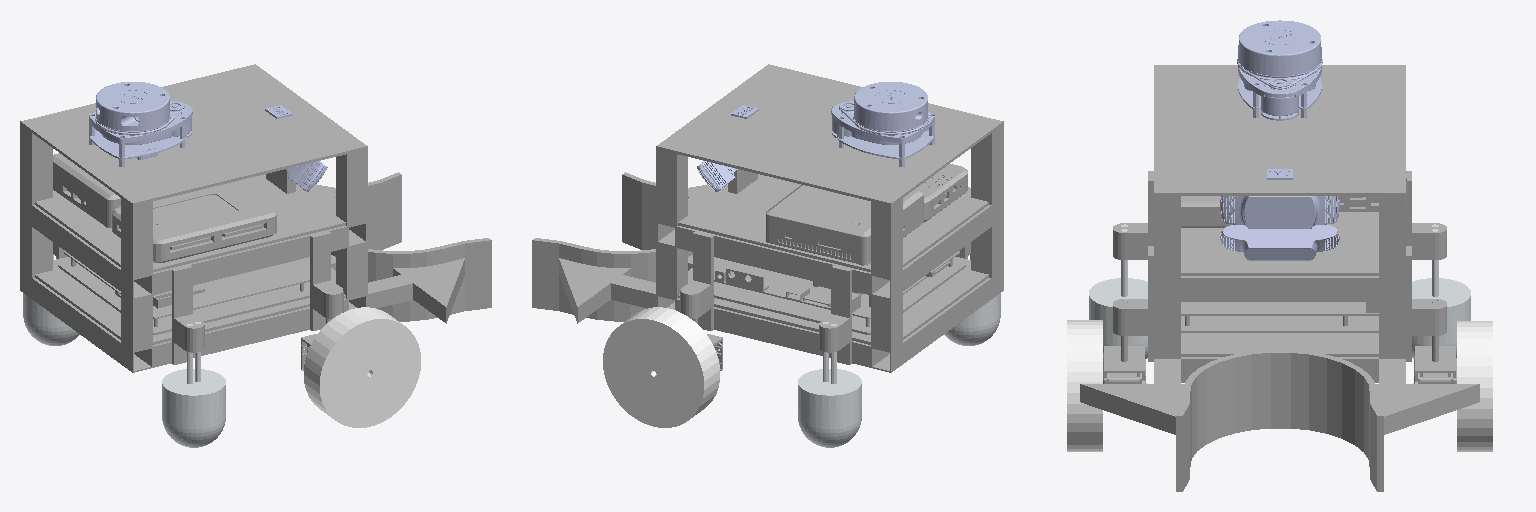
The robot description file, URDF, robot "lide":
<?xml version="1.0" encoding="utf-8"?>
<!-- This URDF was automatically created by SolidWorks to URDF Exporter! Originally created by [author] ([email redacted]) 
     Commit Version: 1.5.1-0-g916b5db  Build Version: 1.5.7152.31018
     For more information, please see http://wiki.ros.org/sw_urdf_exporter -->
<robot
  name="lide">
  <link
    name="base_link">
    <inertial>
      <origin
        xyz="-0.071104259661816 0.00200303179776166 -0.0992852147953354"
        rpy="0 0 0" />
      <mass
        value="2.75314359310364" />
      <inertia
        ixx="0.0065612497747436"
        ixy="-4.33905688720932E-07"
        ixz="7.93136902489972E-06"
        iyy="0.00572527308396673"
        iyz="-4.29101613522818E-07"
        izz="0.0116295244162171" />
    </inertial>
    <visual>
      <origin
        xyz="0 0 0"
        rpy="0 0 0" />
      <geometry>
        <mesh
          filename="package://lide/meshes/base_link.STL" />
      </geometry>
      <material
        name="">
        <color
          rgba="0.752941176470588 0.752941176470588 0.752941176470588 1" />
      </material>
    </visual>
    <collision>
      <origin
        xyz="0 0 0"
        rpy="0 0 0" />
      <geometry>
        <mesh
          filename="package://lide/meshes/base_link.STL" />
      </geometry>
    </collision>
  </link>
  <link
    name="LFS">
    <inertial>
      <origin
        xyz="0.0455532547277625 0.00238273174768056 0.00316237571883915"
        rpy="0 0 0" />
      <mass
        value="0.0606810735326679" />
      <inertia
        ixx="1.7187359000971E-05"
        ixy="-1.6484530205636E-08"
        ixz="-1.56454773175218E-07"
        iyy="1.57906996487927E-05"
        iyz="2.96411876510759E-09"
        izz="1.34932513987566E-05" />
    </inertial>
    <visual>
      <origin
        xyz="0 0 0"
        rpy="0 0 0" />
      <geometry>
        <mesh
          filename="package://lide/meshes/LFS.STL" />
      </geometry>
      <material
        name="">
        <color
          rgba="0.752941176470588 0.752941176470588 0.752941176470588 1" />
      </material>
    </visual>
    <collision>
      <origin
        xyz="0 0 0"
        rpy="0 0 0" />
      <geometry>
        <mesh
          filename="package://lide/meshes/LFS.STL" />
      </geometry>
    </collision>
  </link>
  <joint
    name="LFS"
    type="fixed">
    <origin
      xyz="-0.00886806590619908 0.0844036400368472 -0.186502747985397"
      rpy="1.5707963267949 0 1.5707963267949" />
    <parent
      link="base_link" />
    <child
      link="LFS" />
    <axis
      xyz="0 0 0" />
  </joint>
  <link
    name="LFW">
    <inertial>
      <origin
        xyz="0.0150000000000001 0 0"
        rpy="0 0 0" />
      <mass
        value="0.289786121963991" />
      <inertia
        ixx="0.000439831942427159"
        ixy="-3.54651028574374E-20"
        ixz="-3.54956186376153E-20"
        iyy="0.000241649930360879"
        iyz="1.35525271560688E-20"
        izz="0.000241649930360879" />
    </inertial>
    <visual>
      <origin
        xyz="0 0 0"
        rpy="0 0 0" />
      <geometry>
        <mesh
          filename="package://lide/meshes/LFW.STL" />
      </geometry>
      <material
        name="">
        <color
          rgba="1 1 1 1" />
      </material>
    </visual>
    <collision>
      <origin
        xyz="0 0 0"
        rpy="0 0 0" />
      <geometry>
        <mesh
          filename="package://lide/meshes/LFW.STL" />
      </geometry>
    </collision>
  </link>
  <joint
    name="LFW"
    type="continuous">
    <origin
      xyz="0.0633463599631538 -0.00679803845222954 0.0150436140506676"
      rpy="-1.07689569850004 0 0" />
    <parent
      link="LFS" />
    <child
      link="LFW" />
    <axis
      xyz="1 0 0" />
  </joint>
  <link
    name="RFS">
    <inertial>
      <origin
        xyz="-0.0191756587025614 -0.0149423417490195 0.0521917790884628"
        rpy="0 0 0" />
      <mass
        value="0.0606810735326679" />
      <inertia
        ixx="1.7187359000971E-05"
        ixy="-1.64845302056334E-08"
        ixz="1.56454773175213E-07"
        iyy="1.57906996487927E-05"
        iyz="-2.96411876510698E-09"
        izz="1.34932513987566E-05" />
    </inertial>
    <visual>
      <origin
        xyz="0 0 0"
        rpy="0 0 0" />
      <geometry>
        <mesh
          filename="package://lide/meshes/RFS.STL" />
      </geometry>
      <material
        name="">
        <color
          rgba="0.752941176470588 0.752941176470588 0.752941176470588 1" />
      </material>
    </visual>
    <collision>
      <origin
        xyz="0 0 0"
        rpy="0 0 0" />
      <geometry>
        <mesh
          filename="package://lide/meshes/RFS.STL" />
      </geometry>
    </collision>
  </link>
  <joint
    name="RFS"
    type="fixed">
    <origin
      xyz="-0.0578974692758227 -0.110781236062048 -0.169215608130948"
      rpy="1.5707963267949 0 1.5707963267949" />
    <parent
      link="base_link" />
    <child
      link="RFS" />
    <axis
      xyz="0 0 0" />
  </joint>
  <link
    name="RFW">
    <inertial>
      <origin
        xyz="-0.015 0 0"
        rpy="0 0 0" />
      <mass
        value="0.289786121963991" />
      <inertia
        ixx="0.000439831942427158"
        ixy="-2.99751059459683E-36"
        ixz="3.28943163505767E-37"
        iyy="0.000241649930360878"
        iyz="1.61397654169218E-36"
        izz="0.000241649930360879" />
    </inertial>
    <visual>
      <origin
        xyz="0 0 0"
        rpy="0 0 0" />
      <geometry>
        <mesh
          filename="package://lide/meshes/RFW.STL" />
      </geometry>
      <material
        name="">
        <color
          rgba="1 1 1 1" />
      </material>
    </visual>
    <collision>
      <origin
        xyz="0 0 0"
        rpy="0 0 0" />
      <geometry>
        <mesh
          filename="package://lide/meshes/RFW.STL" />
      </geometry>
    </collision>
  </link>
  <joint
    name="RFW"
    type="continuous">
    <origin
      xyz="-0.0369687639379513 -0.0240836054314246 0.0640730174202912"
      rpy="0 0 0" />
    <parent
      link="RFS" />
    <child
      link="RFW" />
    <axis
      xyz="1 0 0" />
  </joint>
  <link
    name="LBS">
    <inertial>
      <origin
        xyz="2.77555756156289E-17 -0.0468906658695576 0"
        rpy="0 0 0" />
      <mass
        value="0.427507928300499" />
      <inertia
        ixx="0.000234774718964074"
        ixy="1.00144306038344E-22"
        ixz="-7.3183646642772E-22"
        iyy="0.000174741575471784"
        iyz="1.9637456342593E-22"
        izz="0.000234589211059472" />
    </inertial>
    <visual>
      <origin
        xyz="0 0 0"
        rpy="0 0 0" />
      <geometry>
        <mesh
          filename="package://lide/meshes/LBS.STL" />
      </geometry>
      <material
        name="">
        <color
          rgba="0.898039215686275 0.917647058823529 0.929411764705882 1" />
      </material>
    </visual>
    <collision>
      <origin
        xyz="0 0 0"
        rpy="0 0 0" />
      <geometry>
        <mesh
          filename="package://lide/meshes/LBS.STL" />
      </geometry>
    </collision>
  </link>
  <joint
    name="LBS"
    type="fixed">
    <origin
      xyz="-0.156824451855532 0.129999999999999 -0.163225762701871"
      rpy="1.5707963267949 0 1.5707963267949" />
    <parent
      link="base_link" />
    <child
      link="LBS" />
    <axis
      xyz="0 0 0" />
  </joint>
  <link
    name="RBS">
    <inertial>
      <origin
        xyz="0 -0.0468906658695576 0"
        rpy="0 0 0" />
      <mass
        value="0.427507928300499" />
      <inertia
        ixx="0.000234774718964074"
        ixy="5.2257289289969E-24"
        ixz="-5.71747239396702E-24"
        iyy="0.000174741575471784"
        iyz="2.97295802271097E-22"
        izz="0.000234589211059472" />
    </inertial>
    <visual>
      <origin
        xyz="0 0 0"
        rpy="0 0 0" />
      <geometry>
        <mesh
          filename="package://lide/meshes/RBS.STL" />
      </geometry>
      <material
        name="">
        <color
          rgba="0.898039215686275 0.917647058823529 0.929411764705882 1" />
      </material>
    </visual>
    <collision>
      <origin
        xyz="0 0 0"
        rpy="0 0 0" />
      <geometry>
        <mesh
          filename="package://lide/meshes/RBS.STL" />
      </geometry>
    </collision>
  </link>
  <joint
    name="RBS"
    type="fixed">
    <origin
      xyz="-0.156824451855531 -0.13 -0.163225762701871"
      rpy="1.5707963267949 0 1.5707963267949" />
    <parent
      link="base_link" />
    <child
      link="RBS" />
    <axis
      xyz="0 0 0" />
  </joint>
  <link
    name="fcam">
    <inertial>
      <origin
        xyz="0.000445525090231217 -1.10631679103024E-05 0.00129821973144108"
        rpy="0 0 0" />
      <mass
        value="0.0436119950287128" />
      <inertia
        ixx="2.357070580464E-05"
        ixy="-1.01813691701995E-09"
        ixz="2.17579681215332E-08"
        iyy="4.29479133591152E-06"
        iyz="-8.85791114029262E-10"
        izz="2.21058141232448E-05" />
    </inertial>
    <visual>
      <origin
        xyz="0 0 0"
        rpy="0 0 0" />
      <geometry>
        <mesh
          filename="package://lide/meshes/fcam.STL" />
      </geometry>
      <material
        name="">
        <color
          rgba="0.792156862745098 0.819607843137255 0.933333333333333 1" />
      </material>
    </visual>
    <collision>
      <origin
        xyz="0 0 0"
        rpy="0 0 0" />
      <geometry>
        <mesh
          filename="package://lide/meshes/fcam.STL" />
      </geometry>
    </collision>
  </link>
  <joint
    name="fcam"
    type="fixed">
    <origin
      xyz="0.0331755481444686 0 -0.0150079249089001"
      rpy="0 0 0" />
    <parent
      link="base_link" />
    <child
      link="fcam" />
    <axis
      xyz="0 0 0" />
  </joint>
  <link
    name="bcam">
    <inertial>
      <origin
        xyz="0.00044553 -1.1063E-05 0.0012982"
        rpy="0 0 0" />
      <mass
        value="0.043612" />
      <inertia
        ixx="2.3571E-05"
        ixy="-1.0183E-09"
        ixz="2.1758E-08"
        iyy="4.2948E-06"
        iyz="-8.8548E-10"
        izz="2.2106E-05" />
    </inertial>
    <visual>
      <origin
        xyz="0 0 0"
        rpy="0 0 0" />
      <geometry>
        <mesh
          filename="package://lide/meshes/bcam.STL" />
      </geometry>
      <material
        name="">
        <color
          rgba="0.79216 0.81961 0.93333 1" />
      </material>
    </visual>
    <collision>
      <origin
        xyz="0 0 0"
        rpy="0 0 0" />
      <geometry>
        <mesh
          filename="package://lide/meshes/bcam.STL" />
      </geometry>
    </collision>
  </link>
  <joint
    name="bcasm"
    type="fixed">
    <origin
      xyz="0.0245945655901036 0 -0.0502880893355512"
      rpy="0 0.785398163397447 0" />
    <parent
      link="base_link" />
    <child
      link="bcam" />
    <axis
      xyz="0 0 0" />
  </joint>
  <link
    name="Lidar">
    <inertial>
      <origin
        xyz="0.013523 0.00046196 -0.028765"
        rpy="0 0 0" />
      <mass
        value="0.073085" />
      <inertia
        ixx="1.9581E-05"
        ixy="-1.0393E-07"
        ixz="-4.2839E-07"
        iyy="2.4125E-05"
        iyz="9.4271E-09"
        izz="4.1418E-05" />
    </inertial>
    <visual>
      <origin
        xyz="0 0 0"
        rpy="0 0 0" />
      <geometry>
        <mesh
          filename="package://lide/meshes/Lidar.STL" />
      </geometry>
      <material
        name="">
        <color
          rgba="0.79216 0.81961 0.93333 1" />
      </material>
    </visual>
    <collision>
      <origin
        xyz="0 0 0"
        rpy="0 0 0" />
      <geometry>
        <mesh
          filename="package://lide/meshes/Lidar.STL" />
      </geometry>
    </collision>
  </link>
  <joint
    name="Lidar"
    type="fixed">
    <origin
      xyz="-0.149400819455678 -0.000994047553704497 0.0564999999999964"
      rpy="0 0 0" />
    <parent
      link="base_link" />
    <child
      link="Lidar" />
    <axis
      xyz="0 0 0" />
  </joint>
  <link
    name="imu_link">
    <inertial>
      <origin
        xyz="0.0038502 6.2398E-05 -0.0010338"
        rpy="0 0 0" />
      <mass
        value="0.00070067" />
      <inertia
        ixx="2.8868E-08"
        ixy="5.1561E-11"
        ixz="5.7227E-12"
        iyy="1.798E-08"
        iyz="-2.3337E-11"
        izz="4.6383E-08" />
    </inertial>
    <visual>
      <origin
        xyz="0 0 0"
        rpy="0 0 0" />
      <geometry>
        <mesh
          filename="package://lide/meshes/imu_link.STL" />
      </geometry>
      <material
        name="">
        <color
          rgba="0.79216 0.81961 0.93333 1" />
      </material>
    </visual>
    <collision>
      <origin
        xyz="0 0 0"
        rpy="0 0 0" />
      <geometry>
        <mesh
          filename="package://lide/meshes/imu_link.STL" />
      </geometry>
    </collision>
  </link>
  <joint
    name="imu_link"
    type="fixed">
    <origin
      xyz="0.0061755 0 0.005"
      rpy="0 0 0" />
    <parent
      link="base_link" />
    <child
      link="imu_link" />
    <axis
      xyz="0 0 0" />
    <limit
      lower="0"
      upper="0"
      effort="0"
      velocity="0" />
  </joint>
</robot>

--- What the picture shows (computed from the rendered views, not written in the file) ---
Views: 3 orthographic renders of the robot side by side, from view 1: azimuth 30°, elevation 25°; view 2: azimuth 150°, elevation 25°; view 3: azimuth 270°, elevation 25°.
Robot: lide — 11 links, 10 joints (2 continuous, 8 fixed); root link base_link; default pose: every joint at zero.
Links seen in each view (by area): view 1: base_link, RFW, Lidar, RBS, LBS, bcam; view 2: base_link, LFW, Lidar, LBS, RBS, bcam; view 3: base_link, Lidar, RFW, LFW, fcam, bcam, LBS, RBS, LFS, RFS.
Link boxes in pixels (box(x1,y1,x2,y2)): base_link: box(20, 64, 491, 372); RFW: box(304, 307, 420, 427); Lidar: box(89, 82, 192, 166); RBS: box(162, 322, 225, 447); LBS: box(23, 254, 79, 345); bcam: box(286, 161, 327, 191); base_link: box(532, 64, 1003, 372); LFW: box(603, 307, 719, 427); Lidar: box(831, 82, 934, 166); LBS: box(798, 322, 861, 447); RBS: box(944, 254, 1000, 345); bcam: box(697, 161, 737, 191); base_link: box(1080, 65, 1479, 491); Lidar: box(1237, 20, 1322, 120); RFW: box(1067, 320, 1102, 451); LFW: box(1457, 321, 1492, 451); fcam: box(1220, 196, 1339, 228); bcam: box(1220, 225, 1339, 260); LBS: box(1412, 224, 1470, 358); RBS: box(1089, 224, 1147, 358); LFS: box(1413, 300, 1456, 383); RFS: box(1103, 300, 1146, 383).
Bounding box of the posed robot: 0.3983 × 0.3555 × 0.3048 m (x, y, z).
Meshes: 11 distinct files referenced, 11 mesh visuals loaded (11 binary STL).